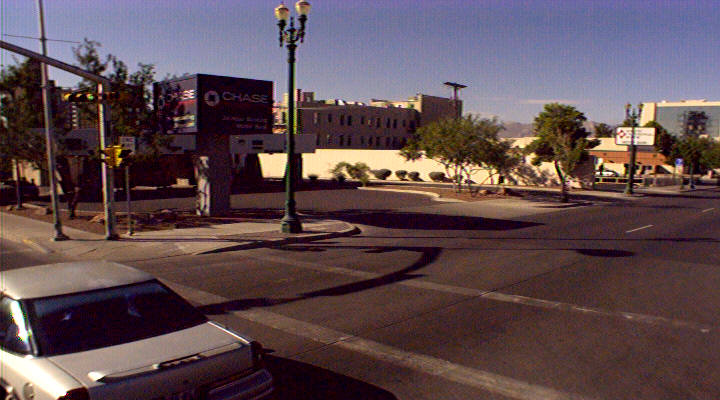Ramp: (46, 238, 225, 265)
